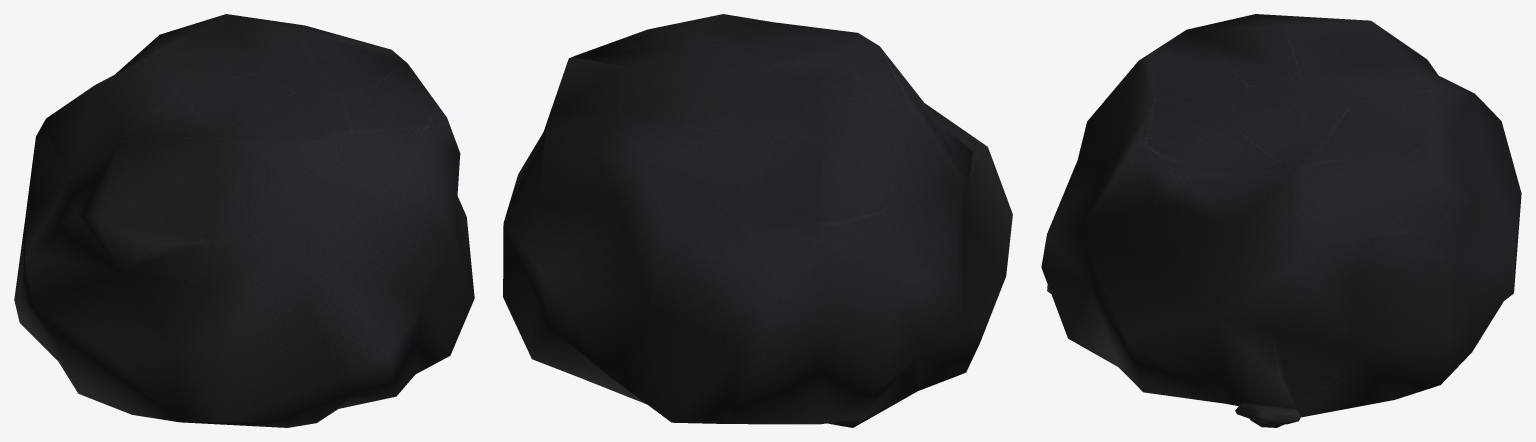
The model's file is Meshy_AI_Obsidian_Boulder_0831110558_texture.fbx.
The picture shows the model from 3 angles, left to right: view 1: azimuth 30°, elevation 25°; view 2: azimuth 150°, elevation 25°; view 3: azimuth 270°, elevation 25°; orthographic projection. The views are drawn at different scales.
Parts seen in each view (by area): view 1: mesh_node; view 2: mesh_node; view 3: mesh_node.
Part boxes in pixels (x1,y1,x2,y2): mesh_node: (14, 14, 474, 427); mesh_node: (503, 14, 1012, 427); mesh_node: (1041, 14, 1521, 427).
Size of the model in its own units: 100 by 67.38 by 98.44.
Materials: 1 (1 with a texture image).
